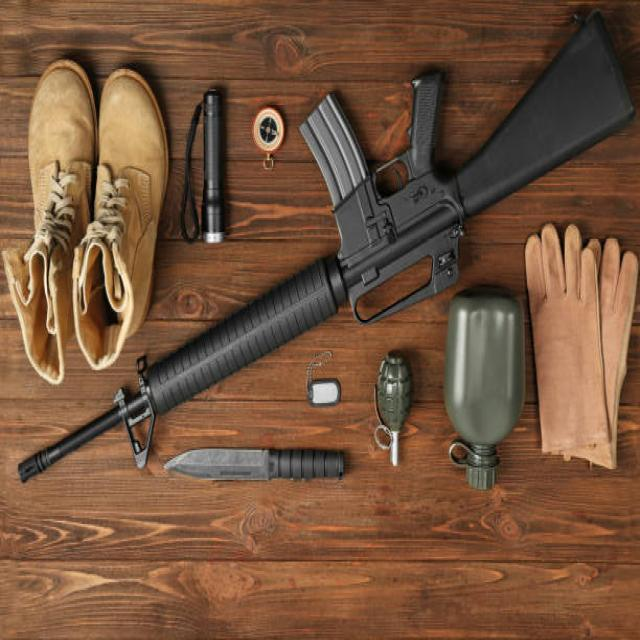grenade: (373, 347, 416, 469)
